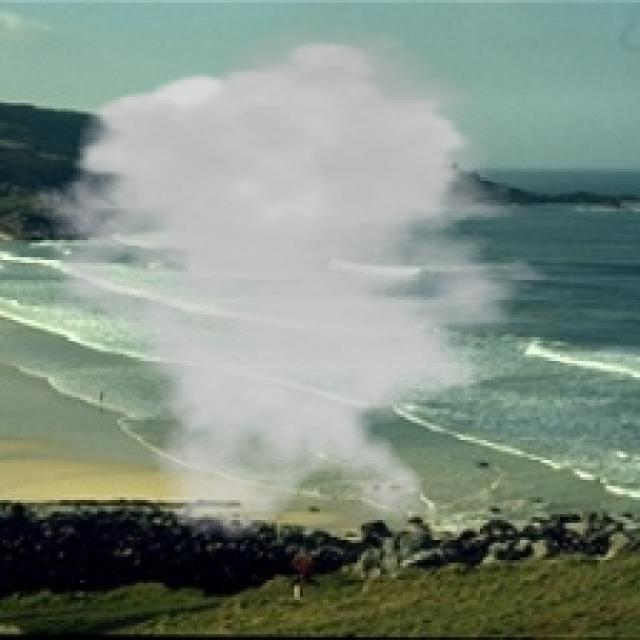Smoke: (22, 23, 574, 543)
